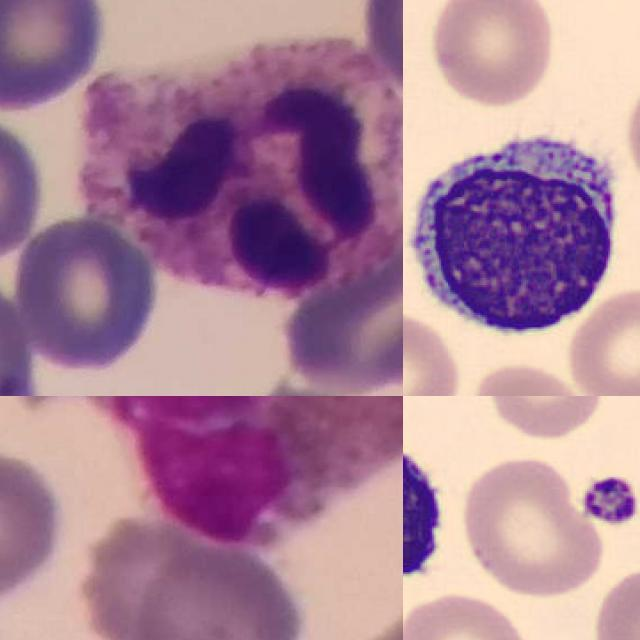Eosinophil: (108, 396, 403, 549)
Lymphocyte: (403, 115, 629, 343), (403, 401, 457, 595)
Neutrophil: (75, 38, 403, 297)
Platelets: (574, 470, 640, 528)
RBC: (457, 453, 610, 601), (424, 0, 558, 112), (565, 283, 640, 396), (403, 588, 537, 640), (482, 396, 608, 441), (403, 308, 462, 396), (587, 563, 640, 640)
